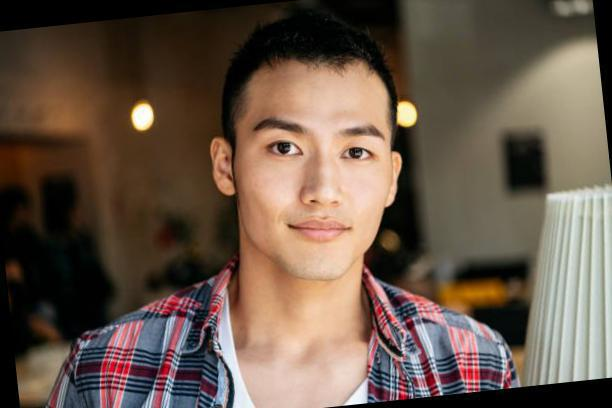Sober: (244, 61, 390, 269)
